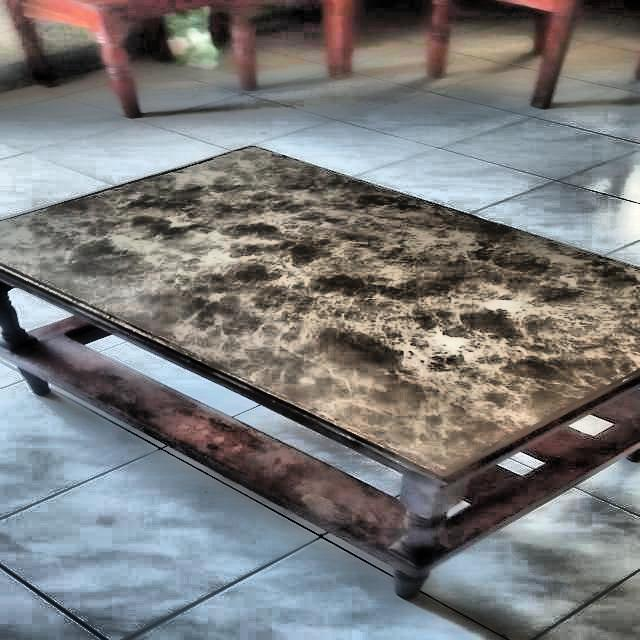mesa: (4, 142, 640, 605)
